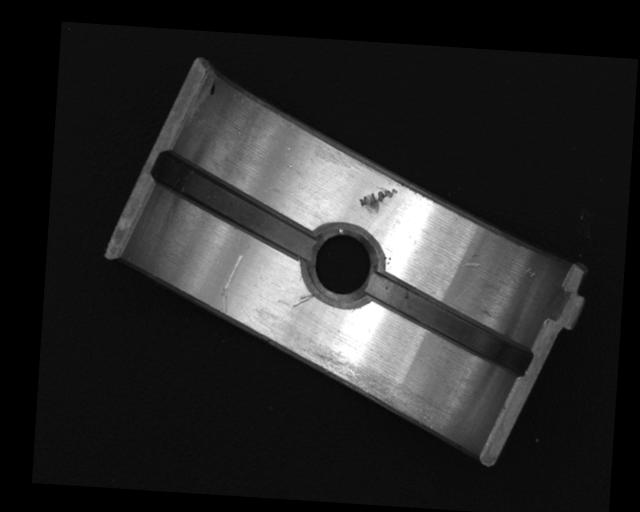blot: (209, 80, 217, 96)
bruise: (358, 186, 399, 216), (459, 260, 482, 270)
gap: (149, 153, 318, 260), (365, 276, 537, 376)
hole: (300, 220, 382, 308)
nick: (220, 243, 252, 318), (292, 292, 315, 309)
scratch: (279, 334, 443, 431)
